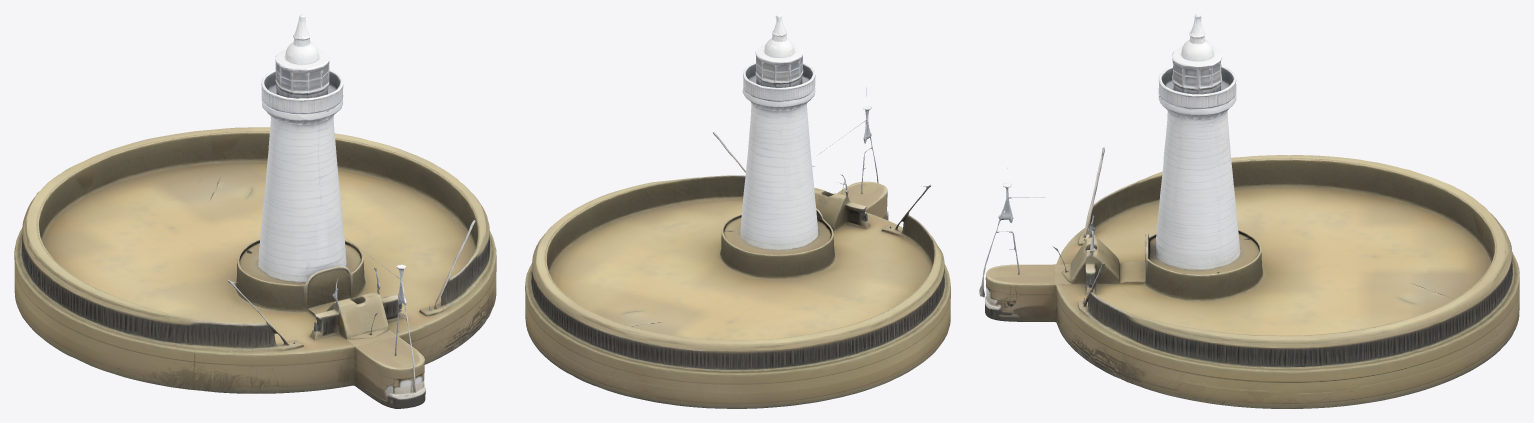
Rendered from generic-lighthouse.glb.
The picture shows the model from 3 angles, left to right: view 1: azimuth 30°, elevation 25°; view 2: azimuth 150°, elevation 25°; view 3: azimuth 270°, elevation 25°; orthographic projection. The views are drawn at different scales.
Visible parts, largest first — view 1: Mesh; view 2: Mesh; view 3: Mesh.
Part boxes in pixels (box(x1,y1,x2,y2)): Mesh: box(14, 14, 496, 408); Mesh: box(525, 14, 950, 408); Mesh: box(979, 14, 1519, 408).
Size of the model in its own units: 1.62 by 1.16 by 1.9.
Materials: 1 (1 with a texture image).
